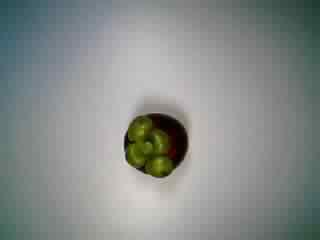mangosteen: (115, 107, 193, 182)
